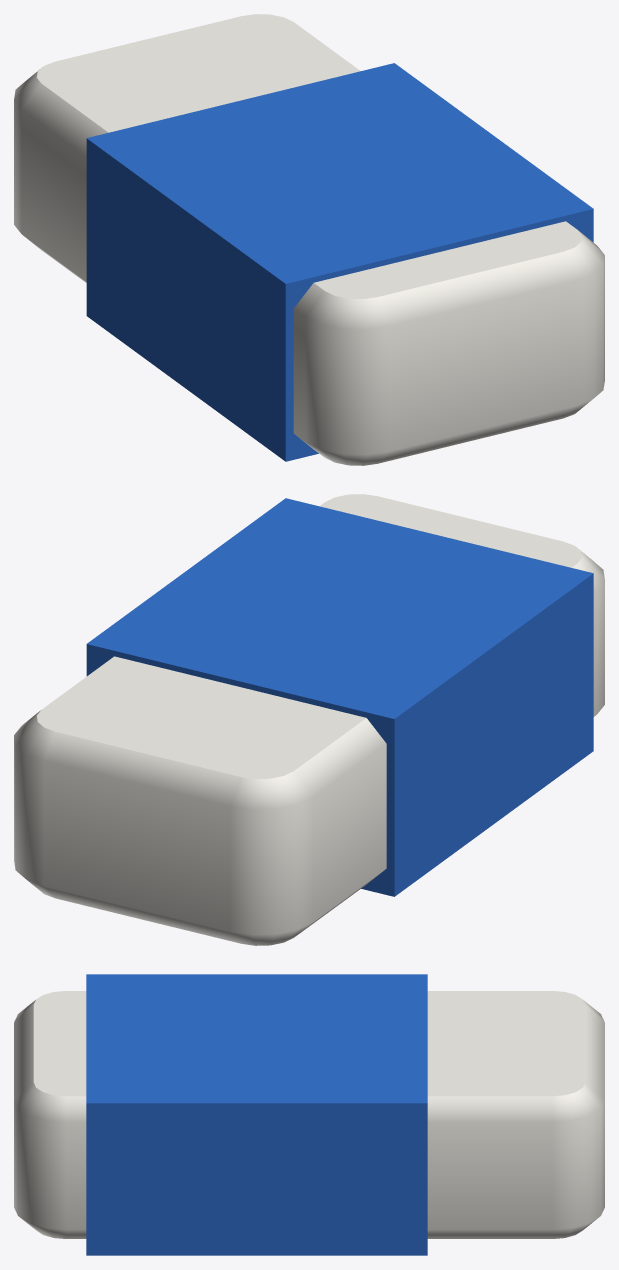
File: eraser.glb
3 views of the same model, one above another, from view 1: azimuth 30°, elevation 25°; view 2: azimuth 150°, elevation 25°; view 3: azimuth 270°, elevation 25° (orthographic). The views are drawn at different scales.
Visible parts, largest first — view 1: Eraser; view 2: Eraser; view 3: Eraser.
Part boxes in pixels (x1,y1,x2,y2): Eraser: (14,14,604,465); Eraser: (14,494,604,945); Eraser: (14,974,604,1255).
Bounding box in the file's own units: 0.0232 × 0.0128 × 0.045.
